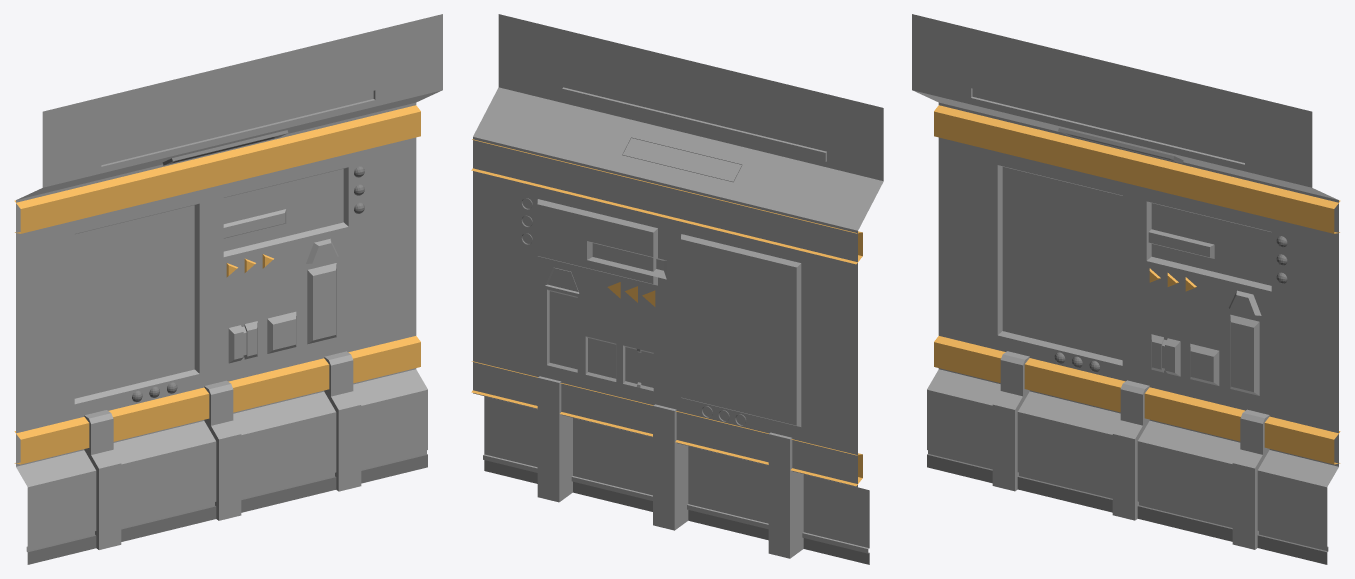
File: wall_1.obj
The picture shows the model from 3 angles, left to right: view 1: azimuth 30°, elevation 25°; view 2: azimuth 150°, elevation 25°; view 3: azimuth 330°, elevation 25°; orthographic projection. The views are drawn at different scales.
Visible parts, largest first — view 1: wall_1; view 2: wall_1; view 3: wall_1.
Boxes of the visible parts, left/top/right/bottom form: wall_1: left=14, top=14, right=442, bottom=564; wall_1: left=471, top=14, right=883, bottom=564; wall_1: left=912, top=14, right=1340, bottom=564.
Bounding box in the file's own units: 4 × 4.43 × 0.5447.
